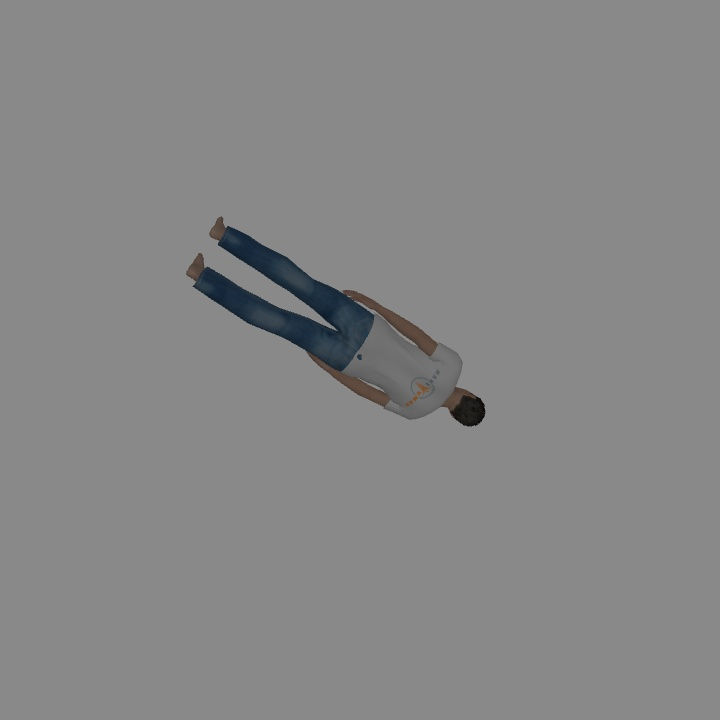victim: (189, 223, 485, 426)
